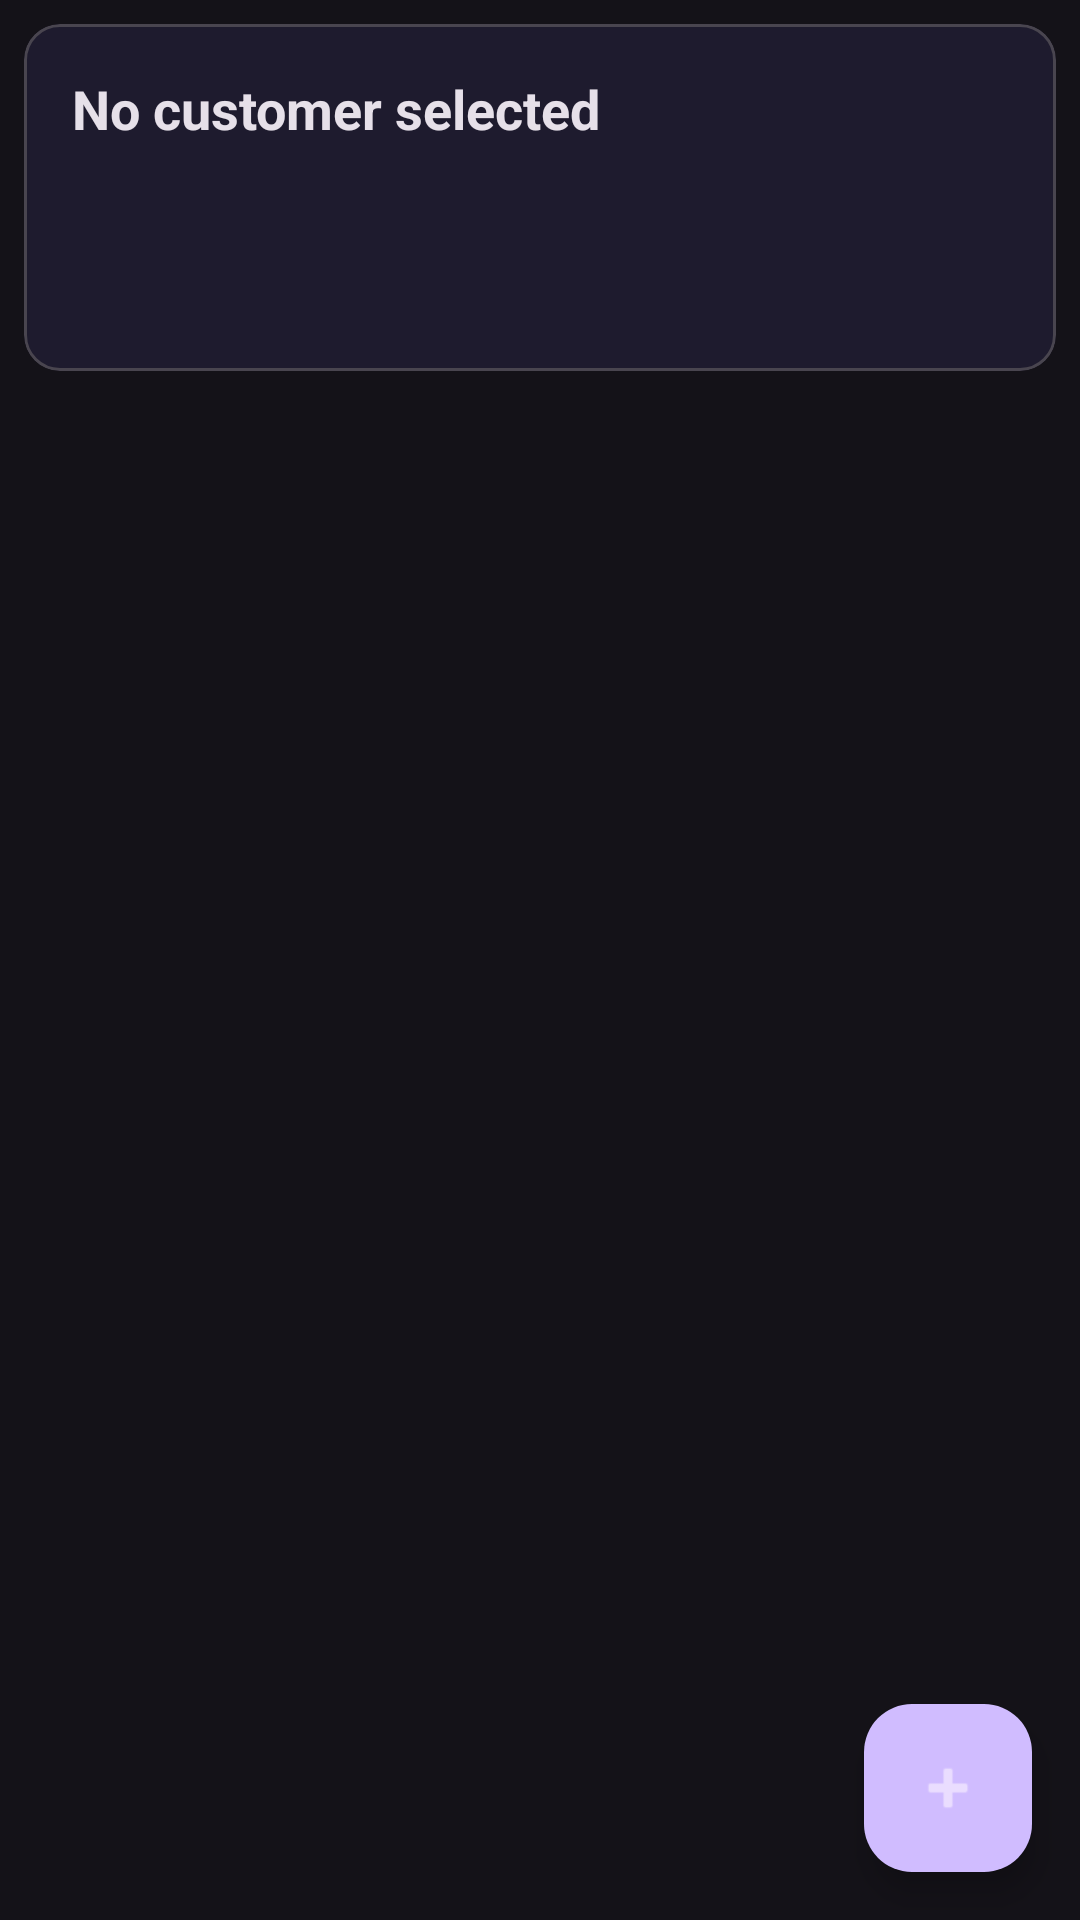

Where to tap for icons on this 1080*1920 app screen, as [x,y]:
Log Interaction: [948,1788]
